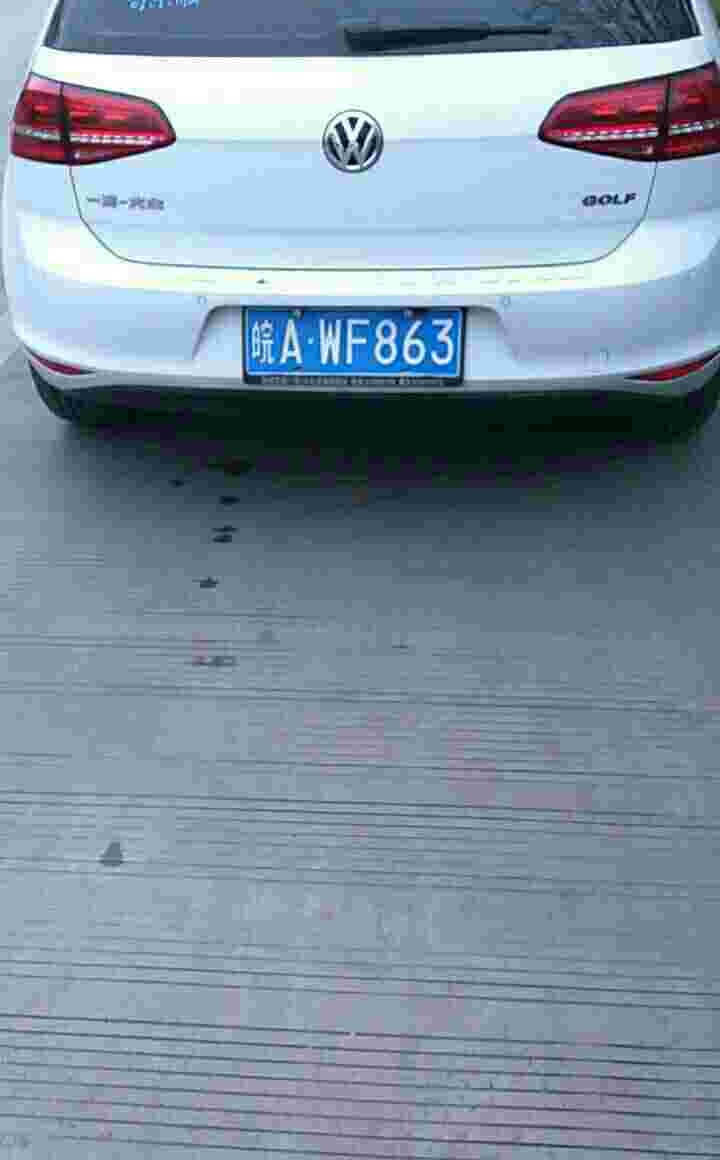license_plate: (250, 317, 464, 380)
